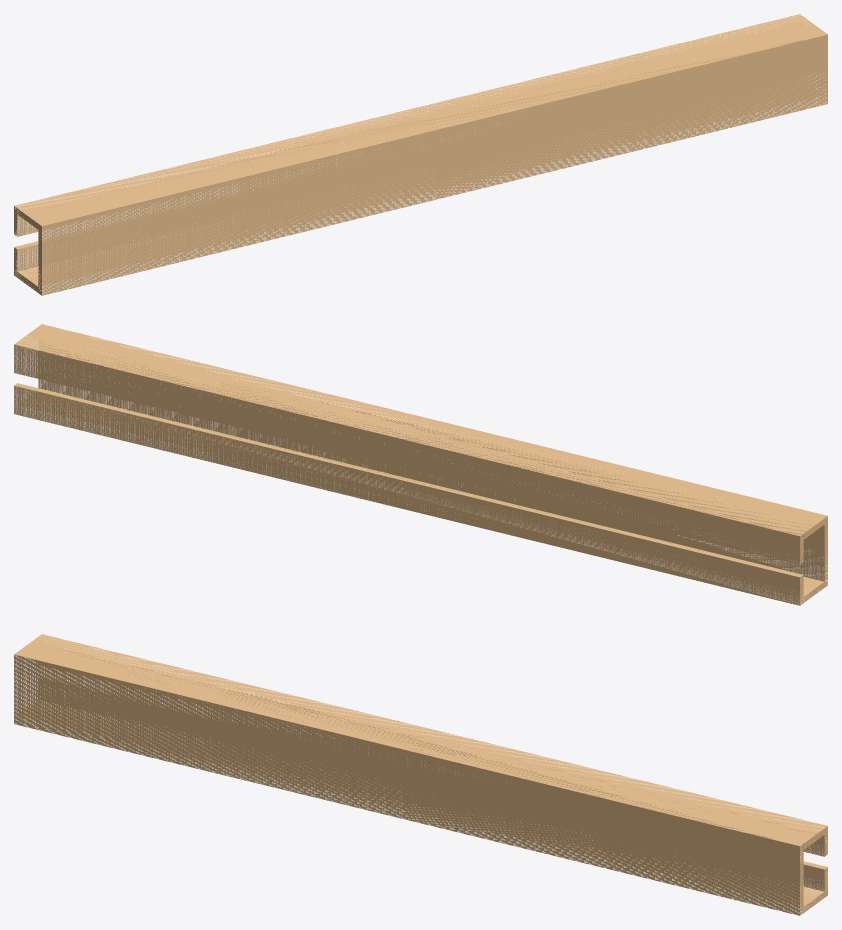
The model's file is tray.gltf.
The picture shows the model from 3 angles, top to bottom: view 1: azimuth 30°, elevation 25°; view 2: azimuth 150°, elevation 25°; view 3: azimuth 330°, elevation 25°; orthographic projection.
Parts seen in each view (by area): view 1: tray; view 2: tray; view 3: tray.
Part boxes in pixels (left/top/right/bottom): tray: left=14, top=14, right=827, bottom=295; tray: left=14, top=324, right=827, bottom=605; tray: left=14, top=634, right=827, bottom=915.
Size of the model in its own units: 0.065 by 0.0055 by 0.004.
